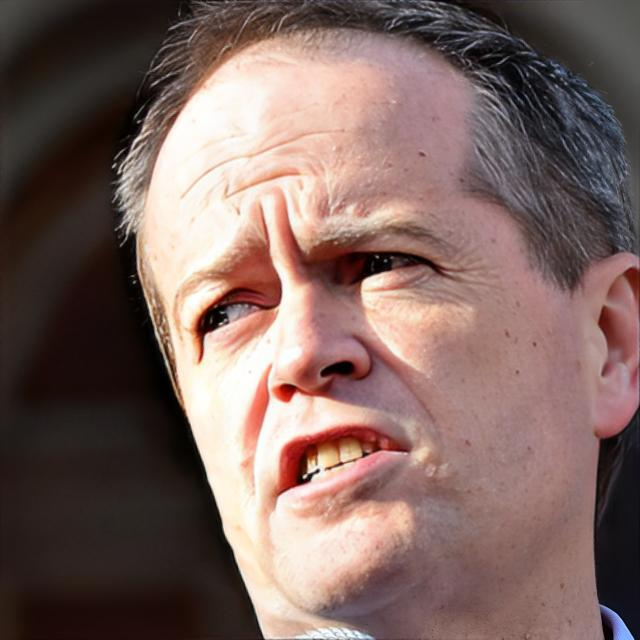disgust: (144, 24, 581, 620)
